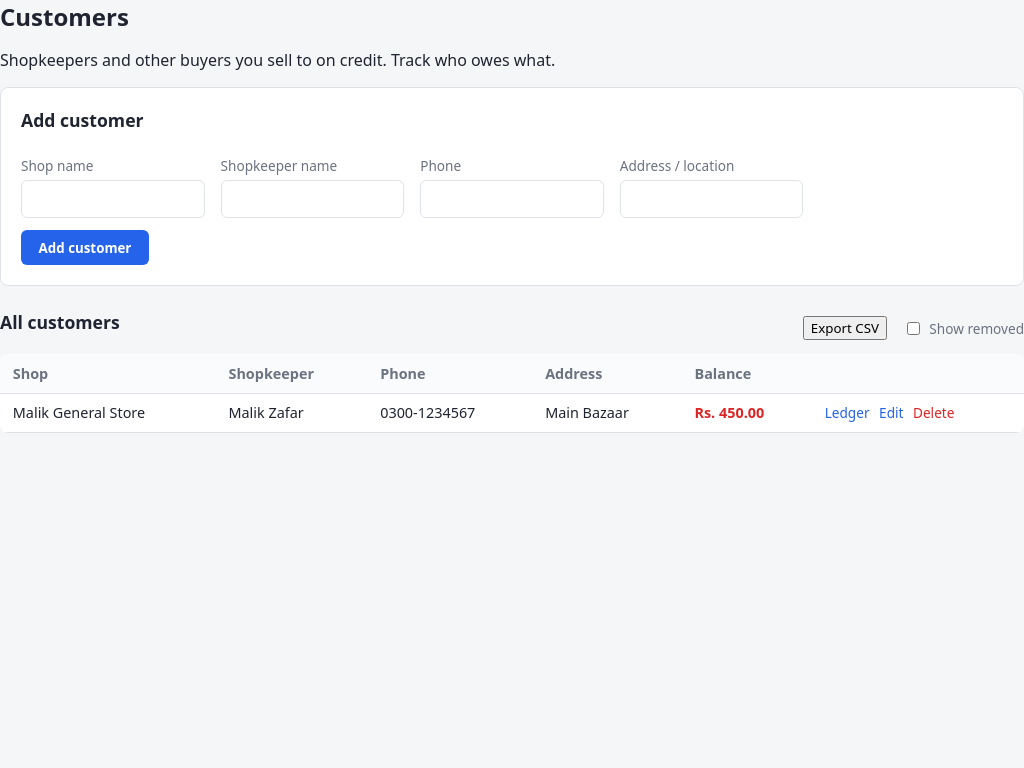
Test: Customers page — owner view › shows a distinct tag for a VOID (reversal) ledger entry
This screenshot has width=1024, height=768.
Expected: the text "Malik General Store" is shown, [0, 393, 216, 433]
Click the button "Ledger": (847, 413) [825, 403, 870, 422]
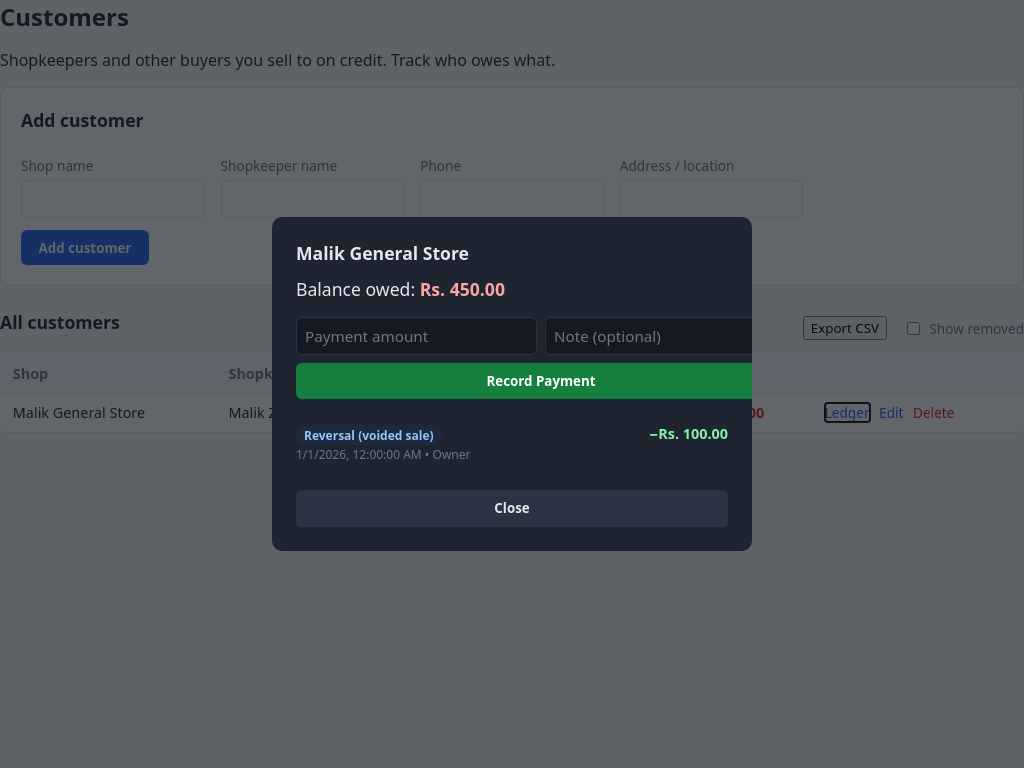
Result: the text "Reversal (voided sale)" is shown at [296, 424, 442, 445]
